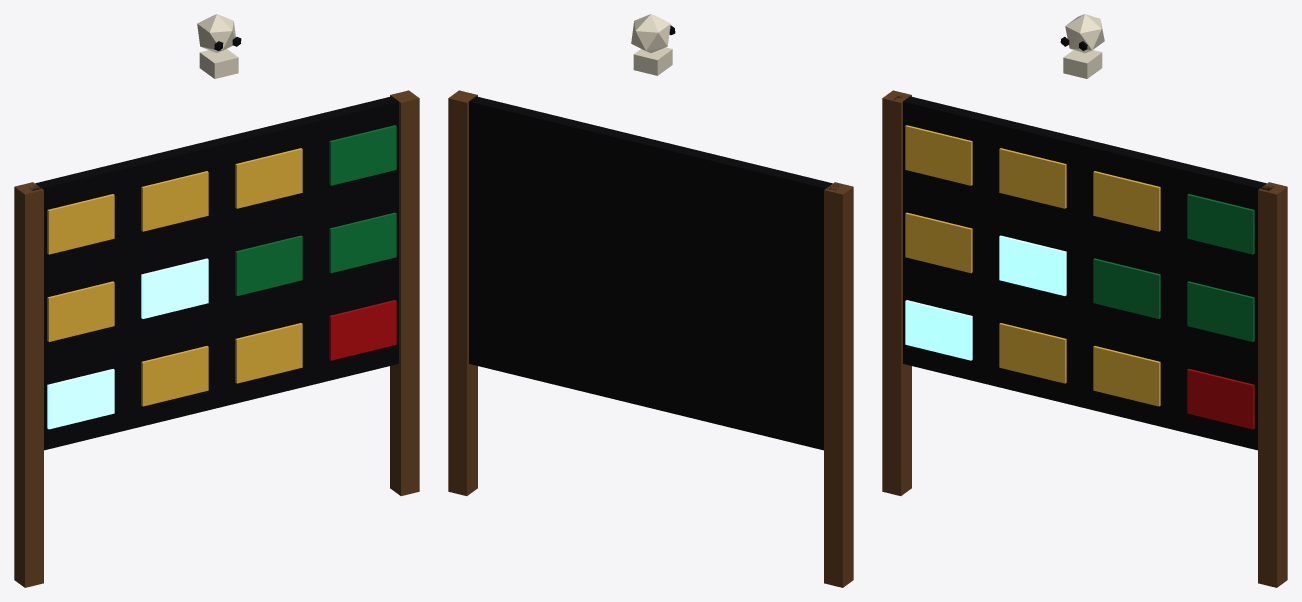
Rendered from Prop_OR_OddsBoard_01.glb.
The picture shows the model from 3 angles, left to right: view 1: azimuth 30°, elevation 25°; view 2: azimuth 150°, elevation 25°; view 3: azimuth 330°, elevation 25°; orthographic projection.
Visible parts, largest first — view 1: Prop_OR_OddsBoard_01; view 2: Prop_OR_OddsBoard_01; view 3: Prop_OR_OddsBoard_01.
Part boxes in pixels (<box>): Prop_OR_OddsBoard_01: <box>14,14,419,587</box>; Prop_OR_OddsBoard_01: <box>448,14,853,587</box>; Prop_OR_OddsBoard_01: <box>882,14,1287,587</box>.
Size of the model in its own units: 3.15 by 3.98 by 0.3057.
